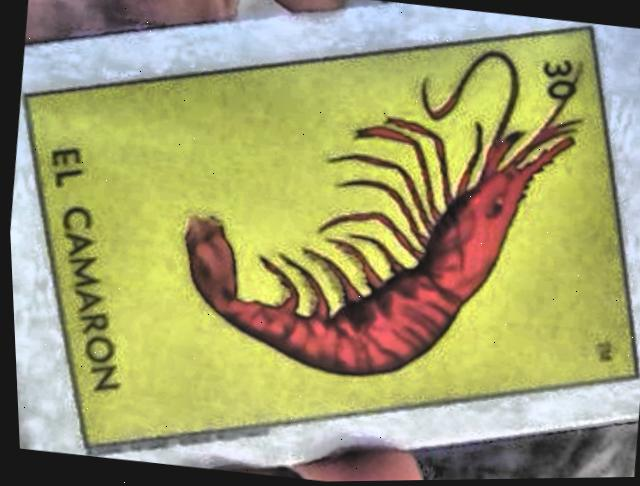El Camaron: (23, 25, 629, 448)
